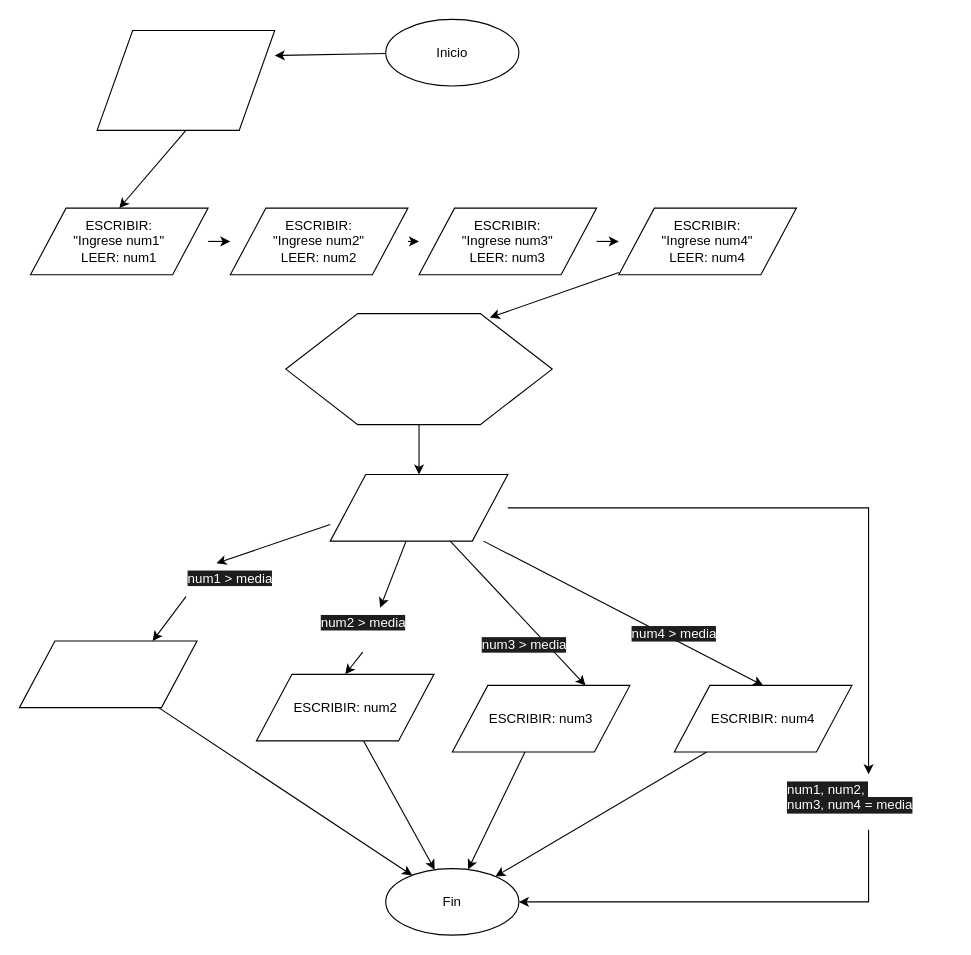
Some shapes in this 971 by 955 pixel diagram are drawn without their labels. The box of each missing label's shape, as (x1, y1, x2, y2) in pixels:
ESCRIBIR: "media": (329, 473, 508, 541)
ESCRIBIR: num1: (18, 640, 197, 708)
media=(num1+num2+num3+num4)/4: (285, 312, 552, 425)
num1: REAL num2 : REAL num3: REAL num4: REAL media: REAL: (96, 29, 275, 130)
